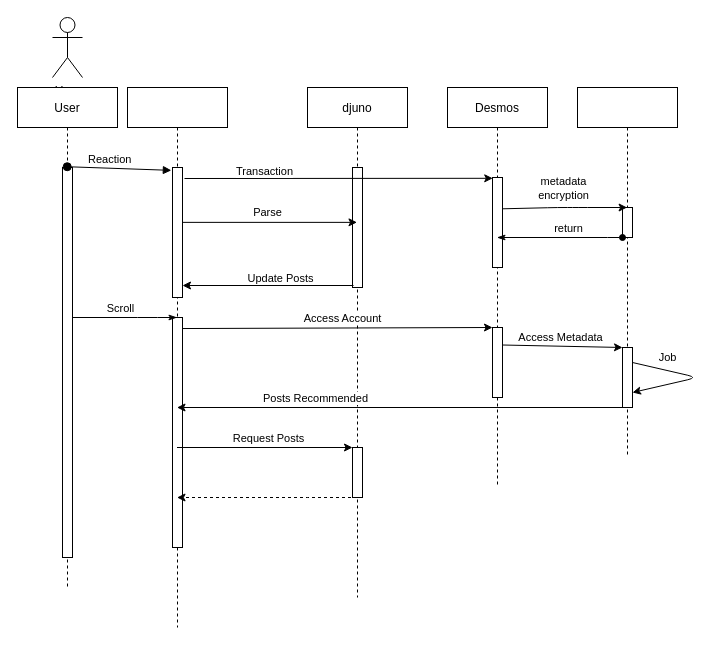
The diagram is 723 pixels wide and 645 high, and some of its shapes have lost their labels. The shapes that lost their labels are listed below. From the top down, each one's box as (x1, y1, x2, y2) in pixels, then its label:
(576, 86, 678, 458): Parcel
(126, 86, 228, 628): Mooncake
